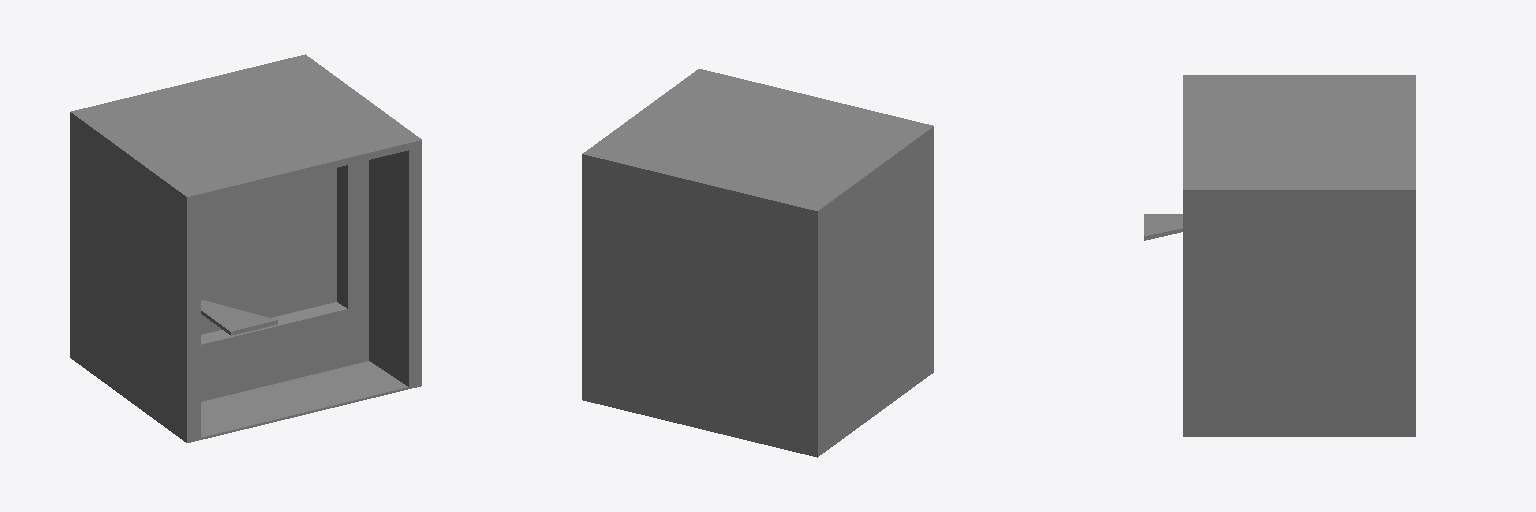
File: door_normal_glass.obj
3 views of the same model, side by side, from view 1: azimuth 30°, elevation 25°; view 2: azimuth 150°, elevation 25°; view 3: azimuth 270°, elevation 25° (orthographic).
Parts seen in each view (by area): view 1: Box019; view 2: Box019; view 3: Box019.
Part boxes in pixels (x1,y1,x2,y2): Box019: (70,54,421,442); Box019: (582,69,933,457); Box019: (1144,75,1415,436).
Bounding box in the file's own units: 12.8 × 12.8 × 12.84.